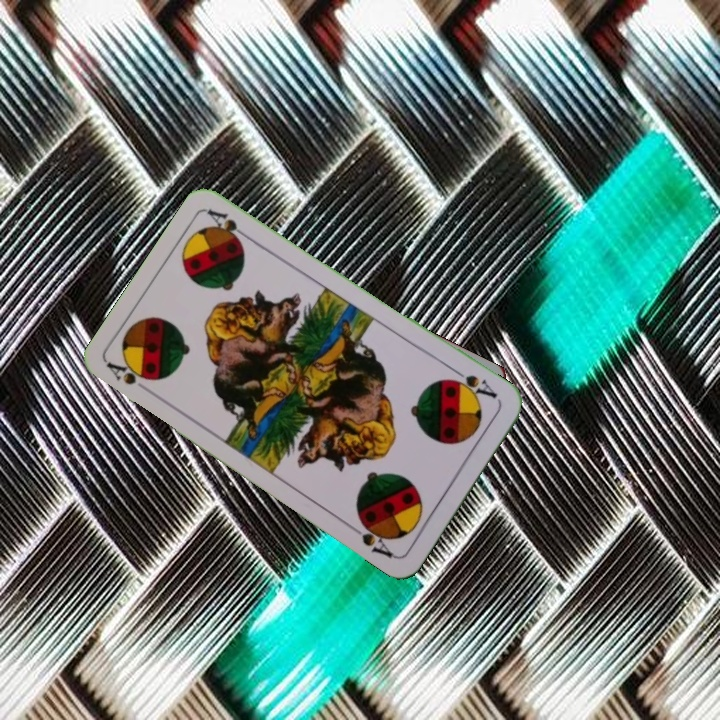SA: (103, 356, 157, 398), (444, 364, 500, 403)
